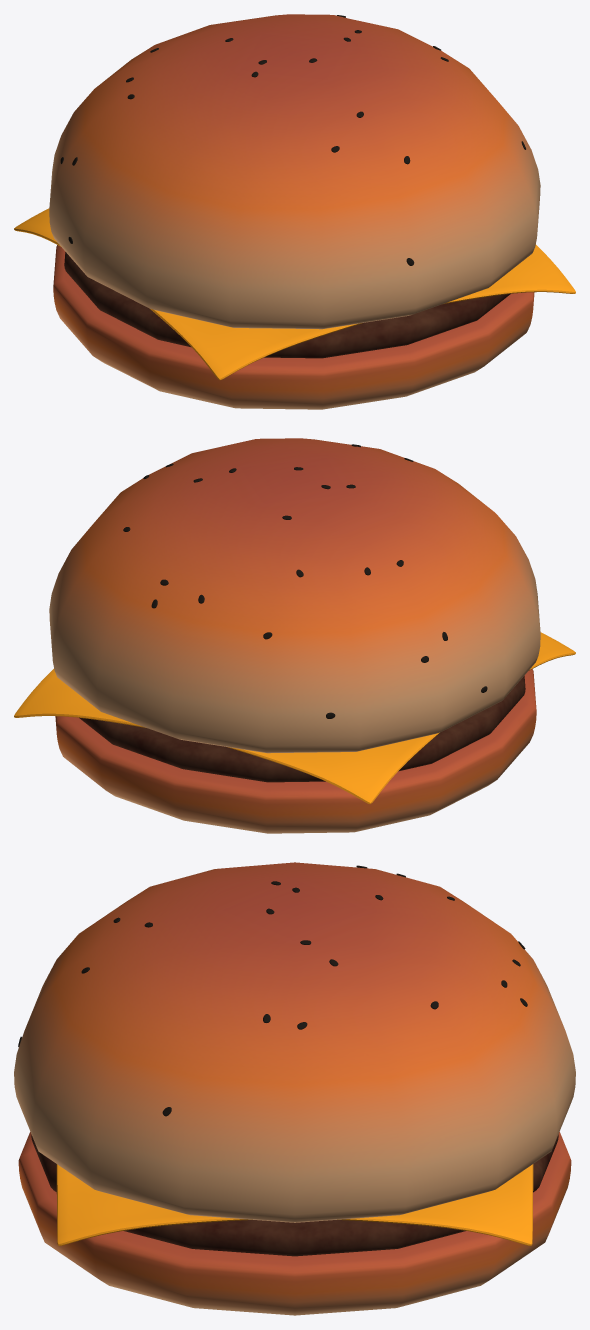
The model's file is hamburger.glb.
The picture shows the model from 3 angles, top to bottom: view 1: azimuth 30°, elevation 25°; view 2: azimuth 150°, elevation 25°; view 3: azimuth 270°, elevation 25°; orthographic projection. The views are drawn at different scales.
Visible parts, largest first — view 1: Top_Bun, Bottom_Bun, Meat, Cheese, Sesame; view 2: Top_Bun, Bottom_Bun, Meat, Cheese, Sesame; view 3: Top_Bun, Bottom_Bun, Cheese, Meat, Sesame.
Part boxes in pixels (x1=…): Top_Bun: x1=49, y1=14, x2=540, y2=329; Bottom_Bun: x1=53, y1=245, x2=534, y2=409; Meat: x1=64, y1=252, x2=510, y2=358; Cheese: x1=14, y1=208, x2=575, y2=380; Sesame: x1=60, y1=15, x2=525, y2=265; Top_Bun: x1=49, y1=438, x2=540, y2=753; Bottom_Bun: x1=55, y1=669, x2=536, y2=833; Meat: x1=79, y1=676, x2=525, y2=782; Cheese: x1=14, y1=632, x2=575, y2=803; Sesame: x1=123, y1=444, x2=487, y2=718; Top_Bun: x1=14, y1=862, x2=575, y2=1222; Bottom_Bun: x1=18, y1=1132, x2=571, y2=1315; Cheese: x1=56, y1=1164, x2=533, y2=1245; Meat: x1=31, y1=1134, x2=558, y2=1256; Sesame: x1=18, y1=865, x2=527, y2=1116.
Size of the model in its own units: 0.0932 by 0.0592 by 0.0932.
Materials: 4 (2 with a texture image).
